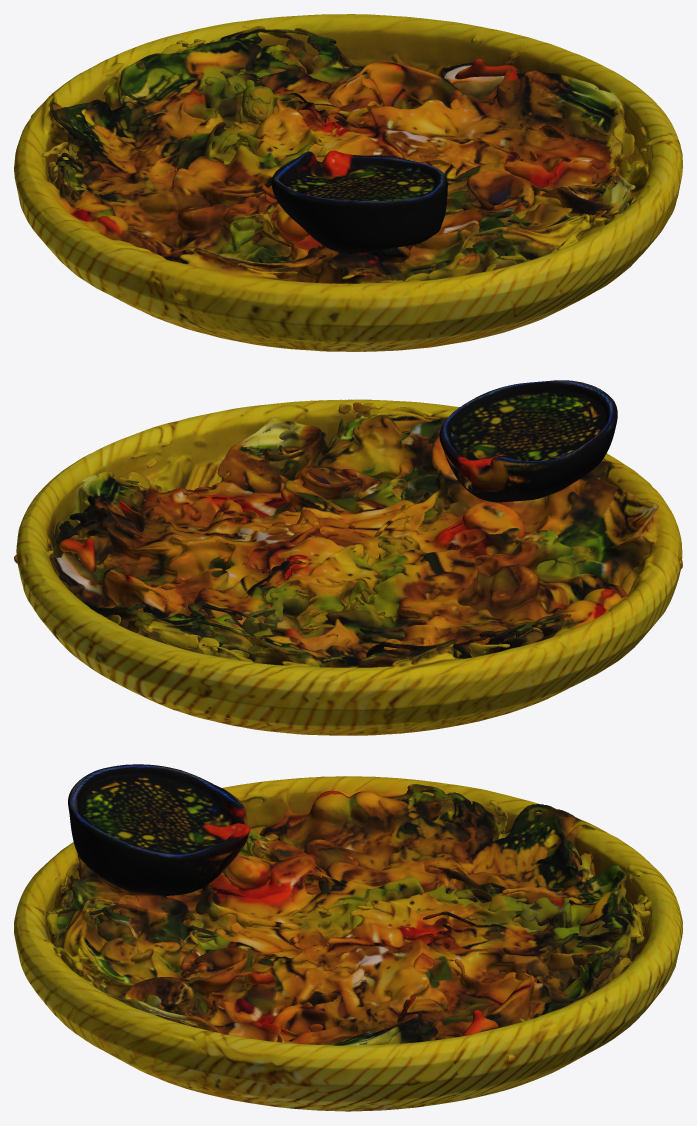
The model's file is food dish 3d model.glb.
3 views of the same model, one above another, from view 1: azimuth 30°, elevation 25°; view 2: azimuth 150°, elevation 25°; view 3: azimuth 270°, elevation 25° (orthographic).
Visible parts, largest first — view 1: tripo_node_9ab8ccc7-0726-4c52-8329-c7f8023aaf8e; view 2: tripo_node_9ab8ccc7-0726-4c52-8329-c7f8023aaf8e; view 3: tripo_node_9ab8ccc7-0726-4c52-8329-c7f8023aaf8e.
Part boxes in pixels (box(x1,y1,x2,y2)): tripo_node_9ab8ccc7-0726-4c52-8329-c7f8023aaf8e: box(14, 14, 682, 351); tripo_node_9ab8ccc7-0726-4c52-8329-c7f8023aaf8e: box(14, 380, 682, 735); tripo_node_9ab8ccc7-0726-4c52-8329-c7f8023aaf8e: box(14, 764, 682, 1111).
Bounding box in the file's own units: 0.9998 × 0.3287 × 0.9999.
1 material, 1 textured.
